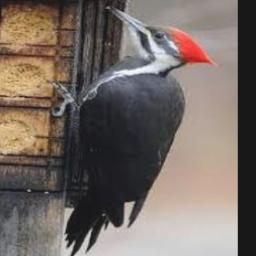Woodpecker: (50, 6, 217, 256)
